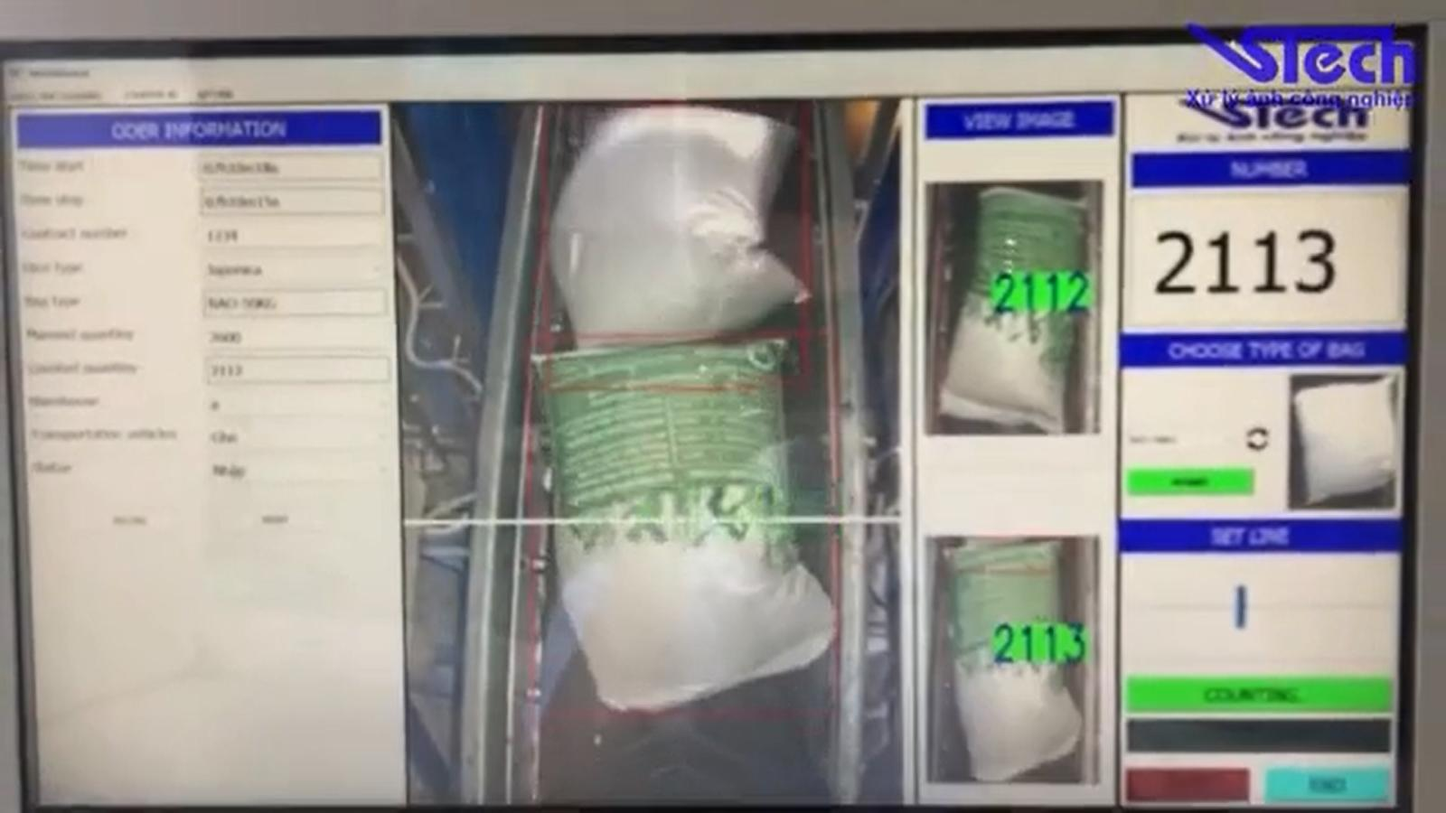rice-bag: (535, 341, 832, 708), (548, 106, 806, 346), (939, 187, 1083, 432), (946, 538, 1081, 780)
